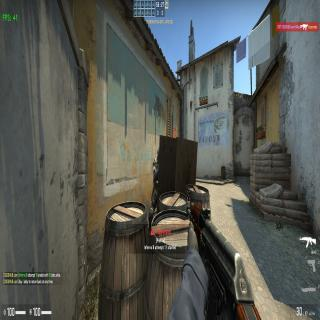CT-Body: (148, 145, 160, 214)
CT-Head: (156, 144, 160, 164)
